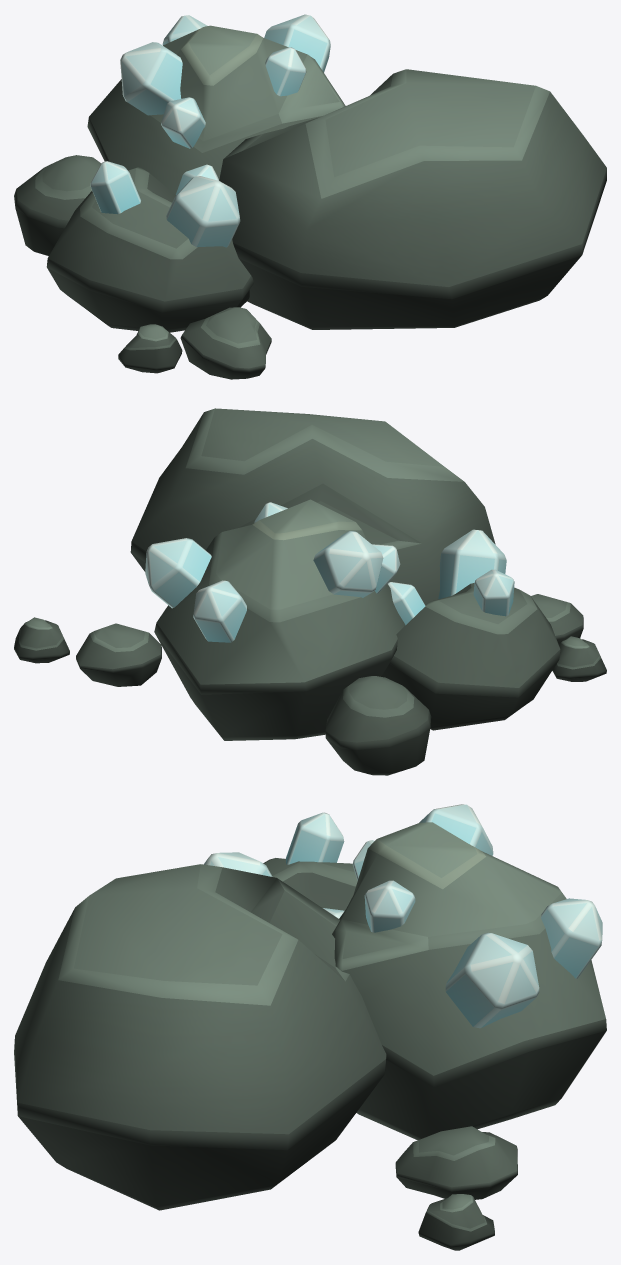
File: arangement_christal_ore_S.fbx
3 views of the same model, one above another, from view 1: azimuth 30°, elevation 25°; view 2: azimuth 150°, elevation 25°; view 3: azimuth 270°, elevation 25° (orthographic). The views are drawn at different scales.
Visible parts, largest first — view 1: arangement_christal_ore_S; view 2: arangement_christal_ore_S; view 3: arangement_christal_ore_S.
Boxes of the visible parts, x1=… form: arangement_christal_ore_S: x1=14, y1=14, x2=606, y2=379; arangement_christal_ore_S: x1=14, y1=408, x2=606, y2=775; arangement_christal_ore_S: x1=14, y1=804, x2=606, y2=1250.
Bounding box in the file's own units: 297 × 134 × 254.
1 material, 1 textured.
